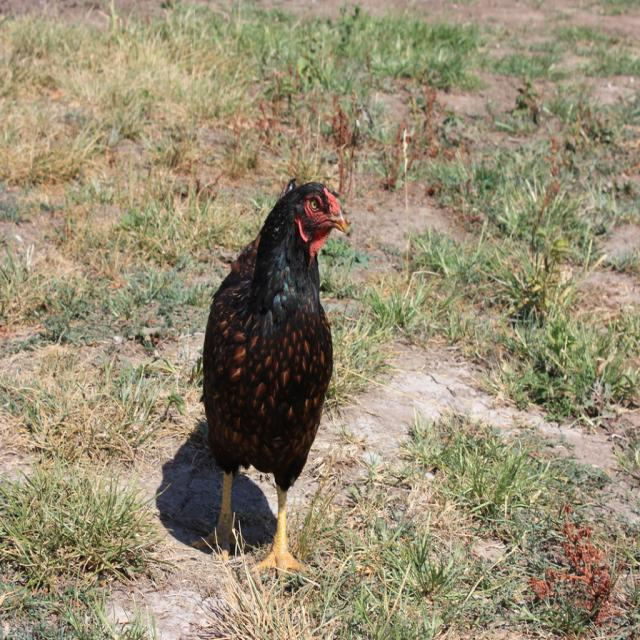Chicken: (197, 183, 346, 580)
